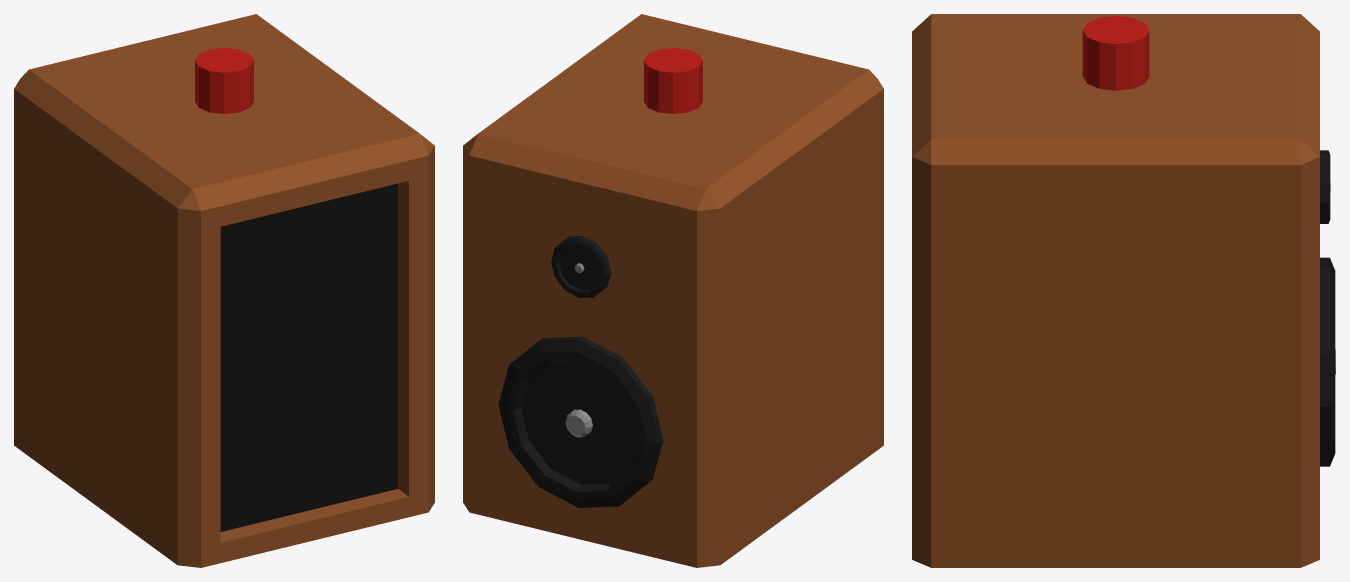
The model's file is Speaker.glb.
The picture shows the model from 3 angles, left to right: view 1: azimuth 30°, elevation 25°; view 2: azimuth 150°, elevation 25°; view 3: azimuth 270°, elevation 25°; orthographic projection. The views are drawn at different scales.
Parts seen in each view (by area): view 1: Speaker, button; view 2: Speaker, button; view 3: Speaker, button.
Part boxes in pixels (<box>): Speaker: <box>14,14,434,567</box>; button: <box>195,48,253,113</box>; Speaker: <box>463,14,883,567</box>; button: <box>644,48,702,113</box>; Speaker: <box>912,14,1335,567</box>; button: <box>1082,16,1149,90</box>.
Bounding box in the file's own units: 0.7228 × 1.11 × 0.9138.
1 material, 1 textured.
